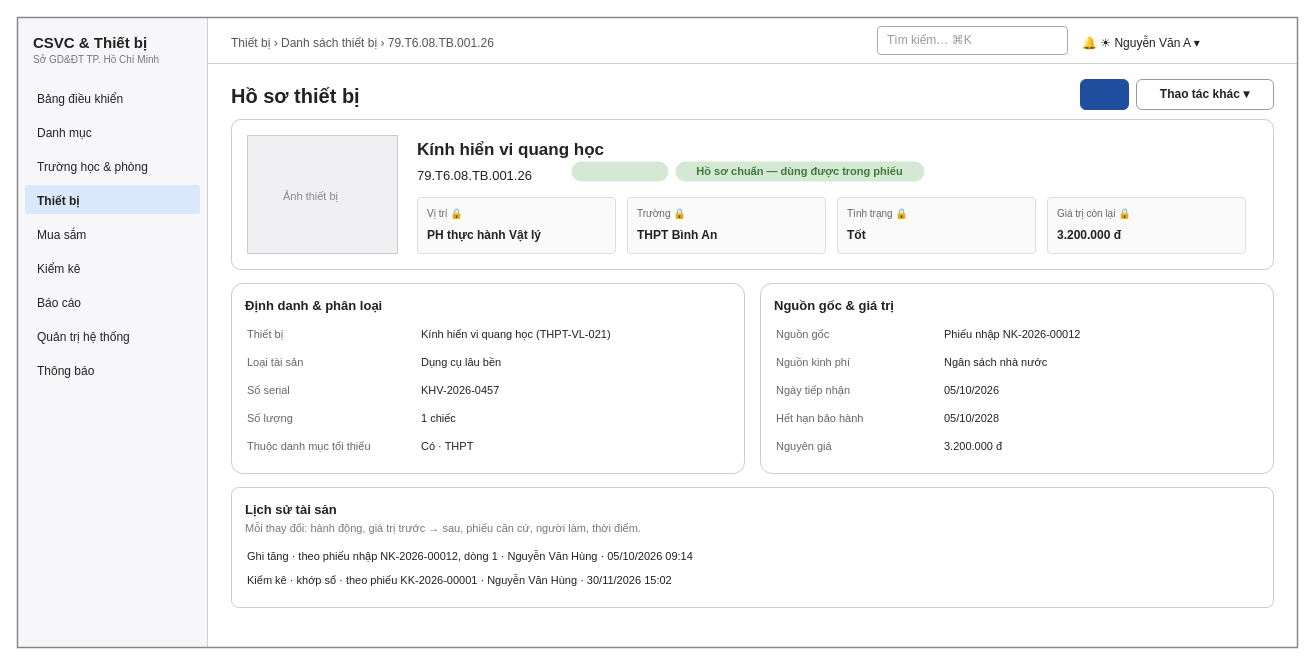
Image size: 1316x666. Some labels were removed from this diagram. The box of each missing label's shape, as (x1, y1, x2, y2) in pixels:
Sửa: (1080, 78, 1128, 110)
Đang sử dụng: (571, 161, 668, 181)
